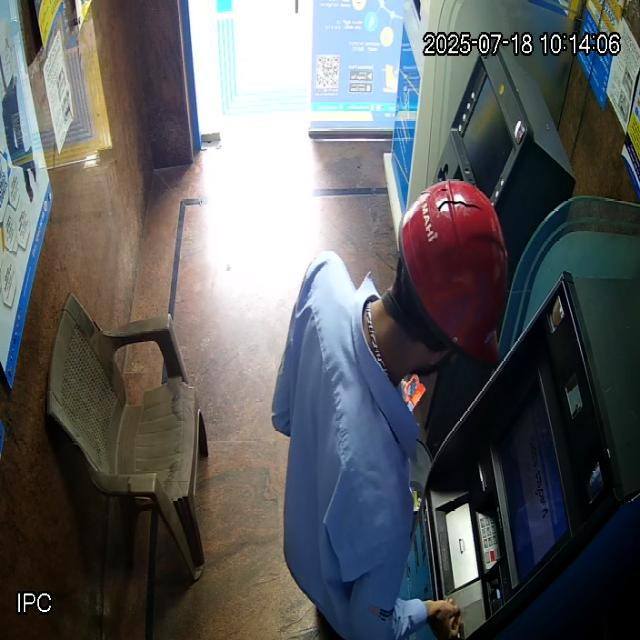helmet: (369, 178, 510, 384)
